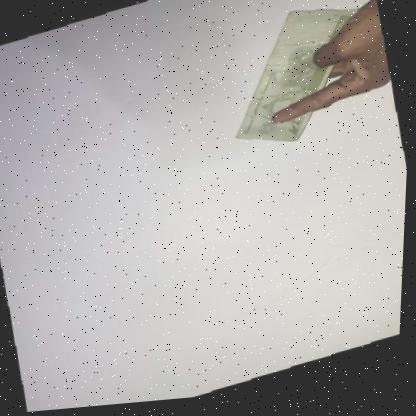dollar_back: (214, 0, 384, 166)
